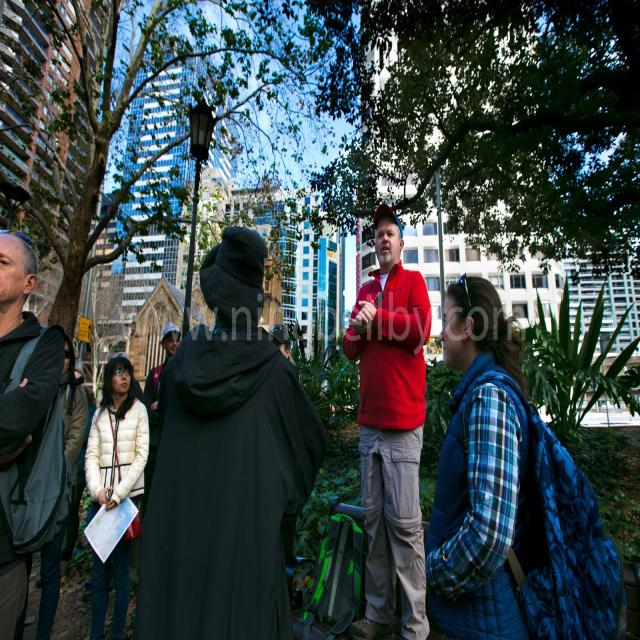body: (128, 220, 336, 640), (422, 274, 564, 639), (337, 198, 435, 640), (0, 222, 73, 640), (12, 329, 91, 640), (82, 353, 152, 639), (34, 365, 90, 588), (141, 322, 184, 526), (116, 352, 147, 400), (267, 322, 296, 367)
